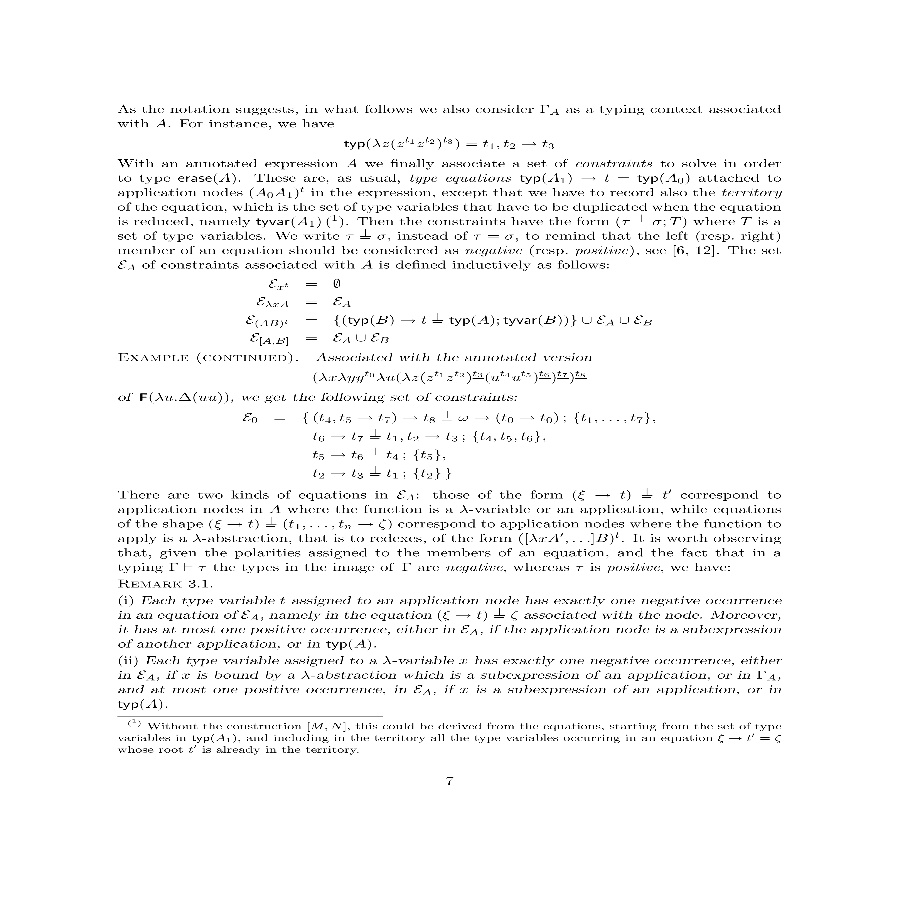eq: (240, 406, 651, 425), (311, 365, 590, 389), (243, 312, 659, 328), (341, 135, 557, 153), (308, 429, 543, 445), (309, 449, 442, 465), (310, 468, 455, 482), (247, 332, 390, 346), (256, 275, 347, 294), (253, 297, 352, 308)
